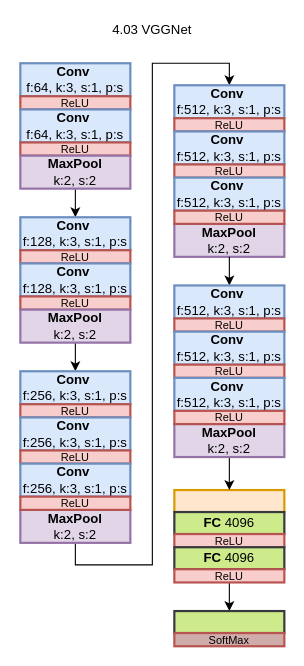
This 304x666 diagram has some shape labels left out. The centre of each missing label's shape, as x and y in pixels:
"FC 1000" belongs at (229,621).
"Flatten" belongs at (229,500).
